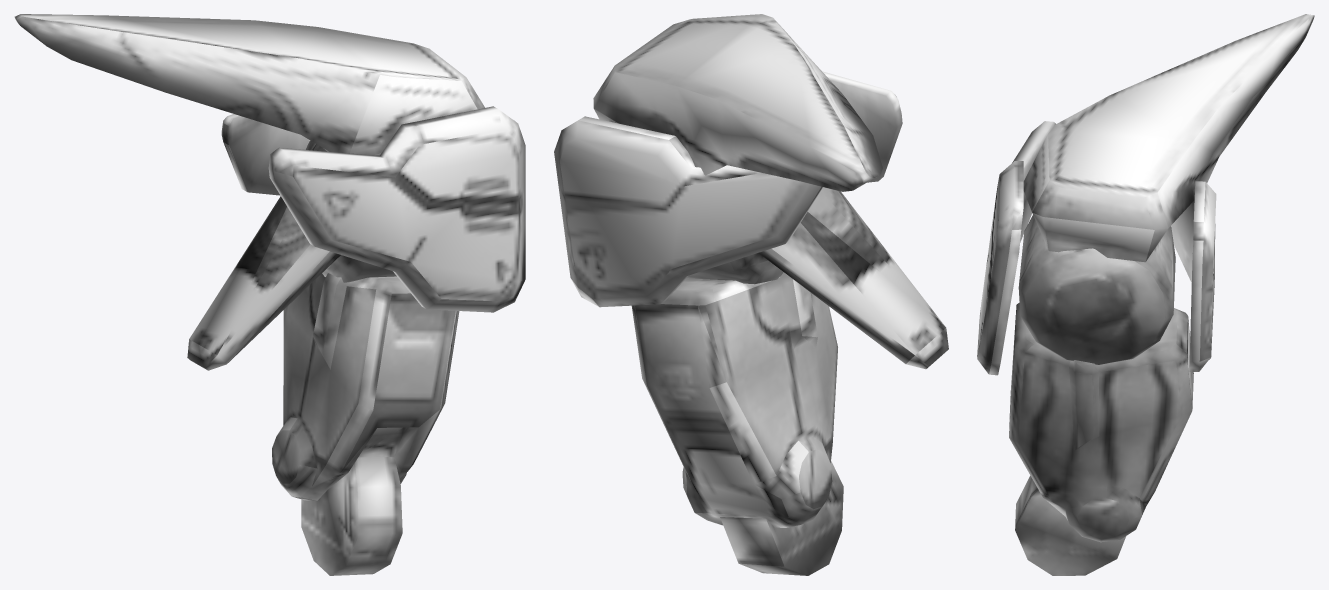
The model's file is r_upper.glb.
3 renders of one model, left to right at view 1: azimuth 30°, elevation 25°; view 2: azimuth 150°, elevation 25°; view 3: azimuth 270°, elevation 25°, orthographic. The views are drawn at different scales.
Parts seen in each view (by area): view 1: r_upper; view 2: r_upper; view 3: r_upper.
Part boxes in pixels (x1=…): r_upper: x1=14, y1=14, x2=525, y2=575; r_upper: x1=554, y1=14, x2=948, y2=575; r_upper: x1=977, y1=14, x2=1314, y2=575.
Bounding box in the file's own units: 0.6732 × 0.9445 × 0.6197.
Materials: 3 (3 with a texture image).
